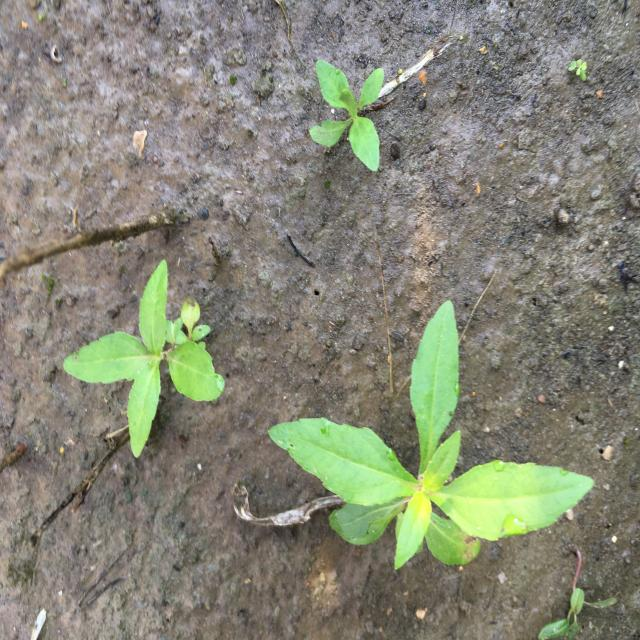Eclipta: (264, 297, 596, 574), (61, 257, 228, 461), (306, 56, 387, 173)
